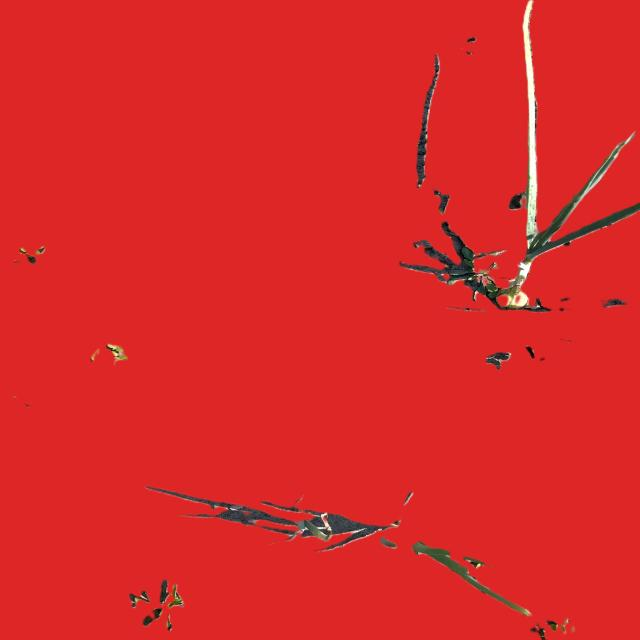Onion: (492, 77, 640, 310)
